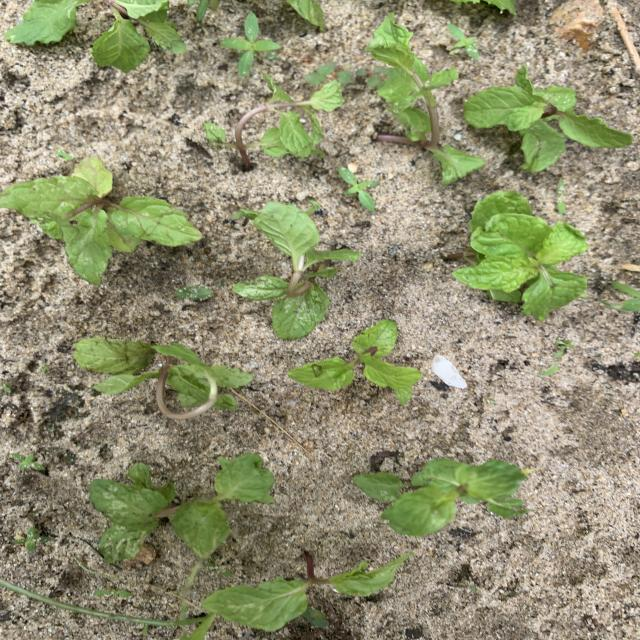crop: (0, 156, 199, 283), (89, 454, 274, 561), (372, 17, 483, 183), (449, 191, 587, 319), (464, 67, 631, 171), (233, 202, 359, 338), (202, 553, 404, 630), (74, 340, 251, 419), (356, 458, 529, 535), (204, 76, 343, 165), (289, 320, 421, 401), (92, 1, 185, 71), (4, 0, 81, 45), (286, 0, 324, 29), (482, 1, 515, 14), (452, 1, 481, 3)
weed: (1, 580, 209, 639), (221, 12, 279, 75), (340, 167, 377, 210), (176, 562, 202, 619), (306, 63, 352, 88), (603, 281, 639, 311), (448, 25, 479, 58), (13, 526, 45, 551), (356, 66, 391, 87), (12, 453, 44, 471), (188, 1, 218, 19), (175, 286, 211, 300), (304, 609, 327, 627), (94, 589, 131, 599), (555, 340, 574, 358), (540, 365, 559, 375), (307, 200, 319, 214), (56, 150, 71, 161), (1, 383, 11, 392), (633, 352, 639, 359)
